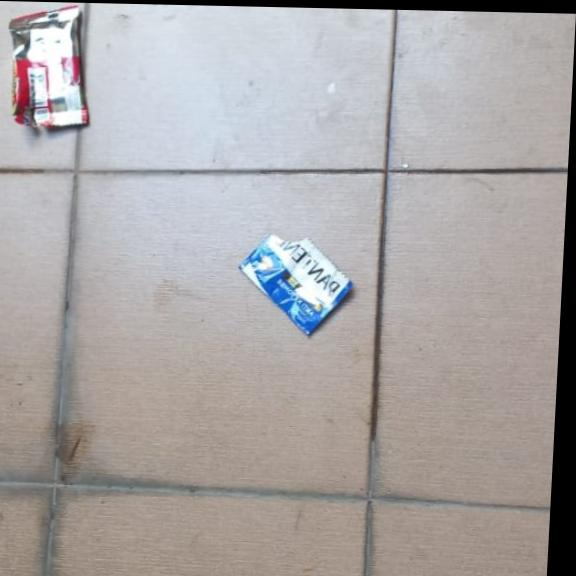Plastik: (234, 232, 355, 335)
